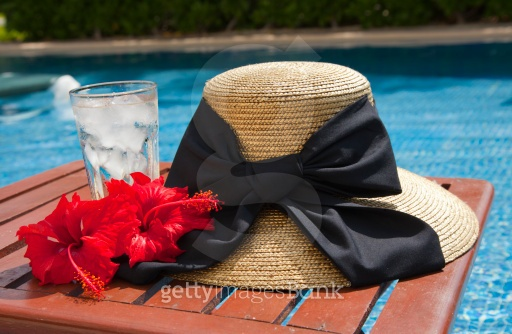glass of water: (69, 76, 164, 224)
